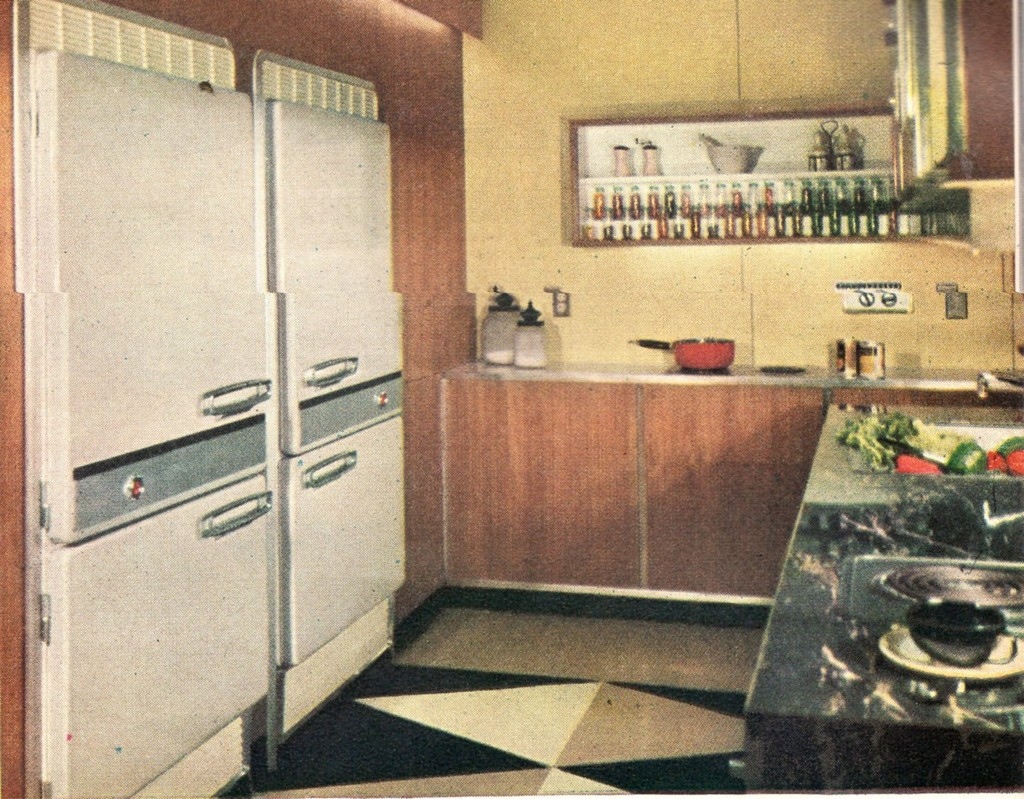handle: (196, 382, 275, 417), (202, 504, 269, 540), (298, 448, 355, 483), (300, 364, 358, 395)
refrigerator door: (70, 300, 257, 478), (76, 535, 266, 699), (290, 457, 399, 587), (292, 307, 408, 411)
